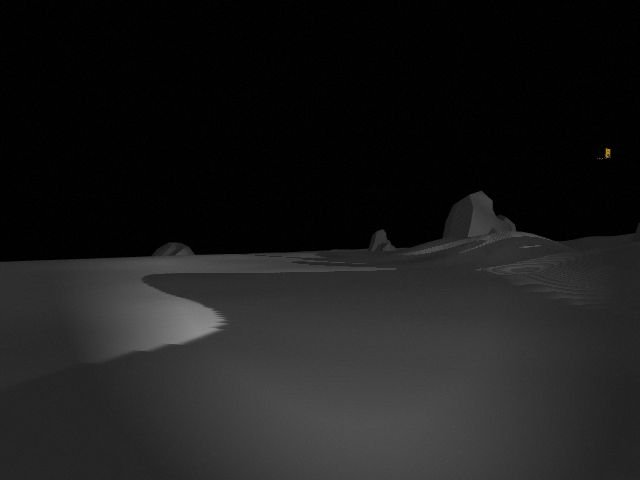cubesat: (593, 146, 613, 162)
